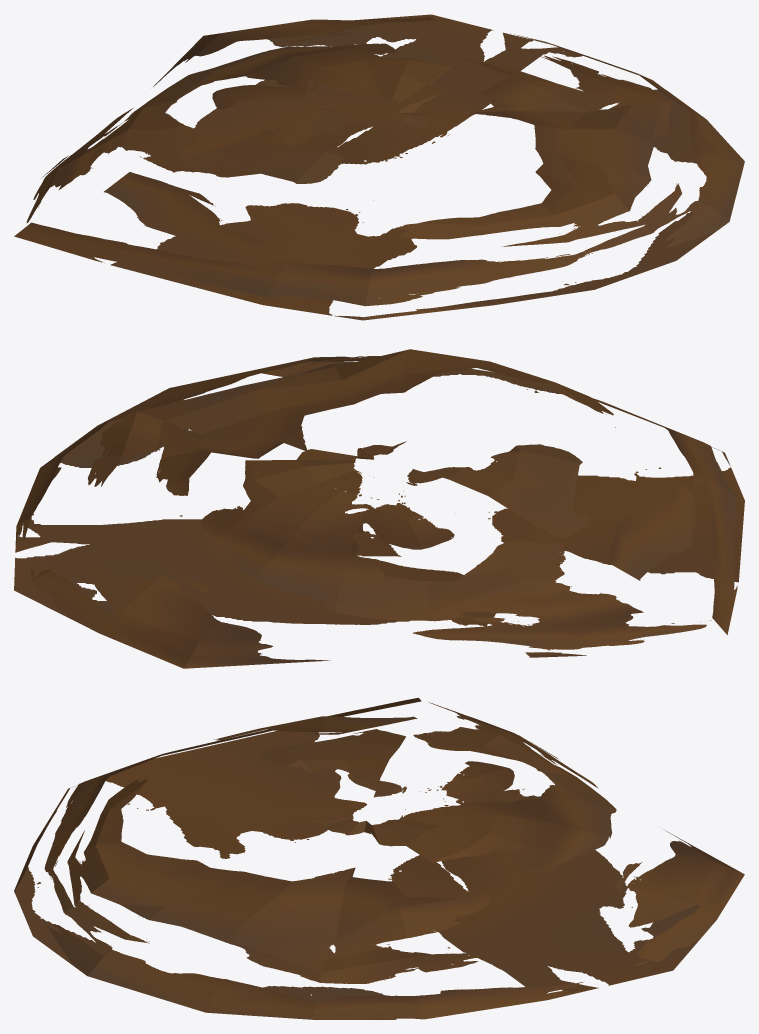
The model's file is Collin_dirtPile_04.fbx.
3 views of the same model, one above another, from view 1: azimuth 30°, elevation 25°; view 2: azimuth 150°, elevation 25°; view 3: azimuth 270°, elevation 25° (orthographic). The views are drawn at different scales.
Parts seen in each view (by area): view 1: Pileofdirt.004; view 2: Pileofdirt.004; view 3: Pileofdirt.004.
Boxes of the visible parts, x1=… form: Pileofdirt.004: x1=14, y1=14, x2=744, y2=320; Pileofdirt.004: x1=14, y1=349, x2=744, y2=668; Pileofdirt.004: x1=14, y1=697, x2=744, y2=1019.
Size of the model in its own units: 34.27 by 3.4 by 33.23.
Materials: 1 (1 with a texture image).
